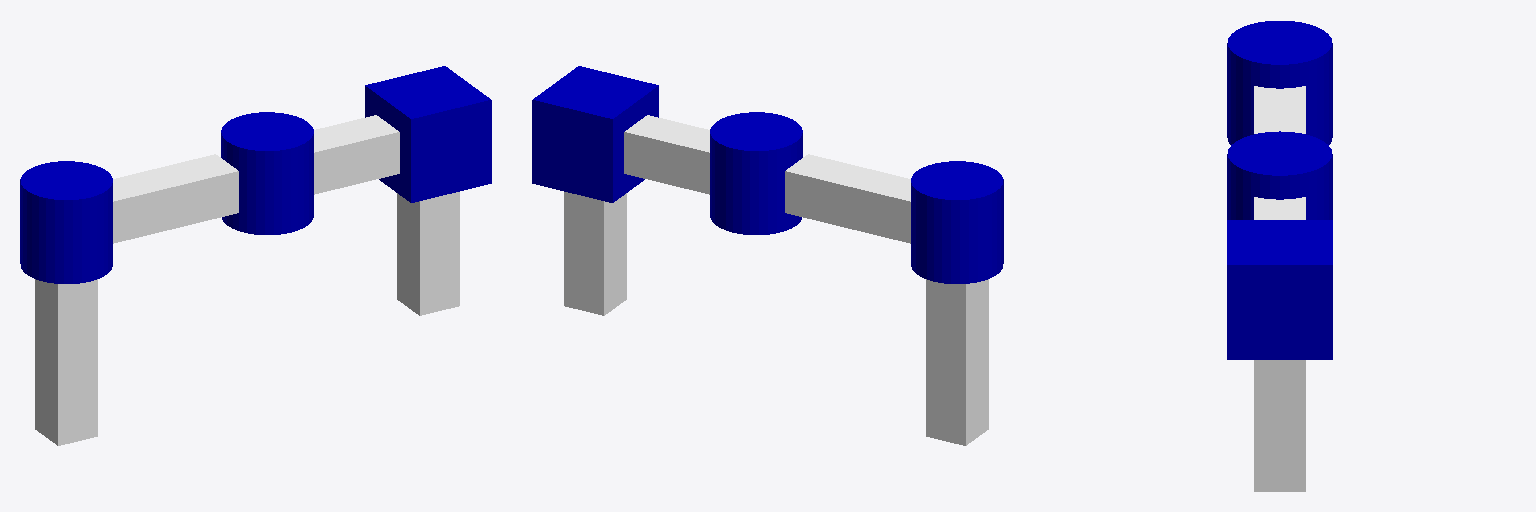
robot.urdf — simple_robot:
<?xml version="1.0"?>
<robot name="simple_robot">
	
<!-- Definición de materiales -->
	
  <material name="blue">
    <color rgba="0 0 0.8 1"/>
  </material>

  <material name="white">
    <color rgba="1 1 1 1"/>
  </material>
  
  <material name="l_gray">
    <color rgba="0.5 0.5 0.5 1"/>
  </material>

<!-- Definición de links y joints -->

<!-- base del robot -->
  <link name="base_link">
    <visual>
      <geometry>
		<box size="0.25 0.25 1"/>
      </geometry>
      <material name="white"/>
      <origin xyz="0 0 0.5"/>
    </visual>
  </link>

<!-- primera articulacion -->

  <joint name="J1" type="continuous">
    <parent link="base_link"/>
    <child link="link1_1"/>
    <origin rpy="0 0 0" xyz="0 0 1.25"/>
     <axis xyz="0 0 1" />
  </joint>

<!-- Eslabon 1 -->

  <link name="link1_1">
    <visual>
      <geometry>
        <cylinder length="0.5" radius="0.25"/>
      </geometry>
      <material name="blue"/>
      <origin rpy="0 0 0" xyz="0 0 0"/>
    </visual>
  </link>

  <link name="link1_2">
    <visual>
      <geometry>
        <box size="1 0.25 0.25"/>
      </geometry>
      <material name="white"/>
      <origin rpy="0 0 0" xyz="0.5 0 0"/>
    </visual>
  </link>

  <joint name="union_l1" type="fixed">
    <parent link="link1_1"/>
    <child link="link1_2"/>
    <origin rpy="0 0 0" xyz="0 0 0"/>
    <axis xyz="0 0 0"/>
  </joint>

<!-- Eslabon 2 -->

  <link name="link2_1">
    <visual>
      <geometry>
        <cylinder length="0.5" radius="0.25"/>
      </geometry>
      <material name="blue"/>
      <origin rpy="0 0 0" xyz="0 0 0"/>
    </visual>
  </link>

  <link name="link2_2">
    <visual>
      <geometry>
        <box size="1 0.25 0.25"/>
      </geometry>
      <material name="white"/>
      <origin rpy="0 0 0" xyz="0.5 0 0"/>
    </visual>
  </link>

  <joint name="union_l2" type="fixed">
    <parent link="link2_1"/>
    <child link="link2_2"/>
    <origin rpy="0 0 0" xyz="0 0 0"/>
    <axis xyz="0 0 0"/>
  </joint>

<!-- Articulación 2 -->
  <joint name="J2" type="revolute">
    <parent link="link1_2"/>
    <child link="link2_1"/>
    <limit effort="1000.0" lower="0.0" upper="1.8" velocity="2.0"/>
    <origin rpy="0 0 0" xyz="1.25 0 0"/>
     <axis xyz="0 0 1" />
  </joint>

<!-- Eslabon 3 -->
  <link name="link3_1">
    <visual>
      <geometry>
        <box size="0.5 0.5 0.5"/>
      </geometry>
      <material name="blue"/>
      <origin rpy="0 0 0" xyz="0 0 0"/>
    </visual>
  </link>

  <joint name="union_l3" type="fixed">
    <parent link="link2_2"/>
    <child link="link3_1"/>
    <origin rpy="3.141592 0 0" xyz="1 0 0"/>
    <axis xyz="0 0 0"/>
  </joint>

  <link name="link3_2">
    <visual>
      <geometry>
        <box size="0.25 0.25 1"/>
      </geometry>
      <material name="white"/>
      <origin rpy="0 0 0" xyz="0 0 -0.5"/>
    </visual>
  </link>

<!-- Articulacion 3 -->

  <joint name="J3" type="prismatic">
    <parent link="link3_1"/>
    <child link="link3_2"/>
    <limit effort="1000.0" lower="-0.8" upper="0.1" velocity="1.0"/>
    <origin rpy="0 0 0" xyz="0 0 1"/>
    <axis xyz="0 0 1"/>
  </joint>

</robot>

--- Render facts (derived) ---
The picture shows the robot from 3 angles, left to right: view 1: azimuth 30°, elevation 25°; view 2: azimuth 150°, elevation 25°; view 3: azimuth 270°, elevation 25°; orthographic projection.
Robot: simple_robot — 7 links, 6 joints (1 revolute, 1 continuous, 1 prismatic, 3 fixed); root link base_link; default pose: every joint at zero.
Links seen in each view (by area): view 1: link3_1, link1_1, base_link, link2_1, link1_2, link3_2, link2_2; view 2: link3_1, link1_1, base_link, link2_1, link1_2, link3_2, link2_2; view 3: link3_1, link1_1, link2_1, link3_2, link1_2, link2_2.
Boxes of the visible links, bbox=[...] form: link3_1: bbox=[365, 66, 491, 202]; link1_1: bbox=[20, 161, 112, 283]; base_link: bbox=[35, 279, 97, 445]; link2_1: bbox=[221, 112, 313, 234]; link1_2: bbox=[113, 154, 238, 243]; link3_2: bbox=[397, 192, 459, 315]; link2_2: bbox=[314, 115, 399, 194]; link3_1: bbox=[532, 66, 658, 202]; link1_1: bbox=[911, 161, 1003, 283]; base_link: bbox=[926, 279, 988, 445]; link2_1: bbox=[710, 112, 802, 234]; link1_2: bbox=[785, 154, 910, 243]; link3_2: bbox=[564, 192, 626, 315]; link2_2: bbox=[624, 115, 709, 194]; link3_1: bbox=[1227, 220, 1332, 359]; link1_1: bbox=[1227, 21, 1332, 144]; link2_1: bbox=[1227, 131, 1332, 219]; link3_2: bbox=[1254, 360, 1305, 491]; link1_2: bbox=[1254, 86, 1305, 133]; link2_2: bbox=[1254, 197, 1305, 219].
Bounding box of the posed robot: 2.75 × 0.5 × 1.5 m (x, y, z).
Geometry: primitives only (box / cylinder / sphere), no mesh files.